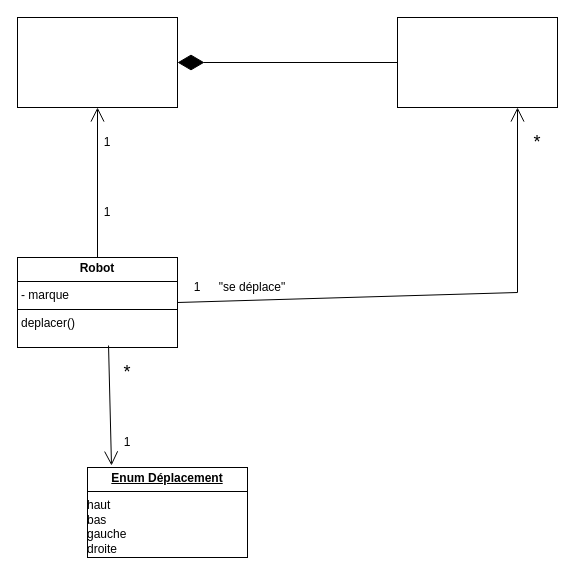
Image size: 585x575. Some labels were removed from this diagram. The shapes that lost their labels are listed below. From the top down, each one's box as (x1, y1, x2, y2) in pixels, then its label:
(16, 16, 178, 108): Grille - nb lignes - nb colonnes
(396, 16, 558, 108): Case x : entier y : entier
